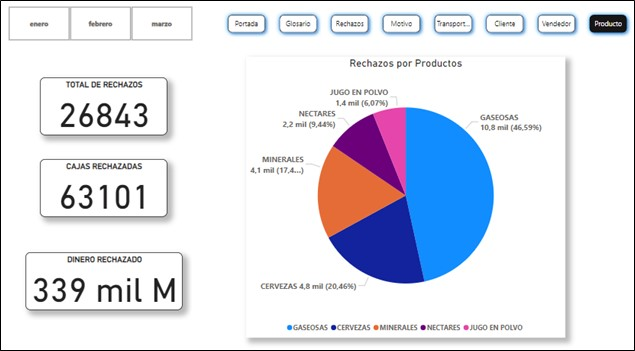

The dashboard page shown, as its layout file describes it:
{"tool":"powerbi","page":{"name":"Producto","canvas":[1280,720],"ordinal":7},"visuals":[{"type":"pieChart","title":"Rechazos por Productos         ","fields":{"Category":["Rechazos.Categoria      "],"Y":["CountNonNull(Rechazos.ID_Rechazo)"]},"box":[508.3,125.8,624.1,548.6],"z":0},{"type":"pageNavigator","box":[463.7,34.6,800.6,53.3],"z":1000},{"type":"slicer","fields":{"Values":["Tabla Calendario.Mes"]},"box":[18.7,21.6,407.5,79.2],"z":2000},{"type":"card","title":"TOTAL DE RECHAZOS","fields":{"Values":["CountNonNull(Rechazos.ID_Rechazo)"]},"box":[106,166,249.3,113.4],"z":3000},{"type":"card","title":"CAJAS RECHAZADAS","fields":{"Values":["Sum(Rechazos.Cantidad)"]},"box":[106,325.7,249.3,113.4],"z":4000},{"type":"card","title":"DINERO RECHAZADO","fields":{"Values":["Sum(Rechazos.Valor)"]},"box":[77.7,507.7,307.5,113.4],"z":5000}]}

Visuals, with their boxes in screenshot pixels (x1, y1, x2, y2), scaled from the page's 1280x720 canvas onto the 635x351 screenshot:
"Rechazos por Productos         " pieChart: {"left": 252, "top": 61, "right": 562, "bottom": 329}
pageNavigator: {"left": 230, "top": 17, "right": 627, "bottom": 43}
slicer - Tabla Calendario.Mes: {"left": 9, "top": 11, "right": 211, "bottom": 49}
"TOTAL DE RECHAZOS" card: {"left": 53, "top": 81, "right": 176, "bottom": 136}
"CAJAS RECHAZADAS" card: {"left": 53, "top": 159, "right": 176, "bottom": 214}
"DINERO RECHAZADO" card: {"left": 39, "top": 248, "right": 191, "bottom": 303}
